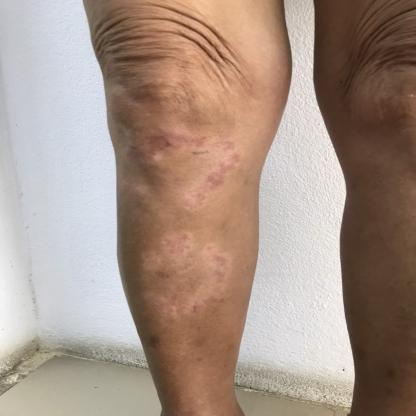Leprosy: (123, 126, 246, 216), (133, 227, 240, 327)
